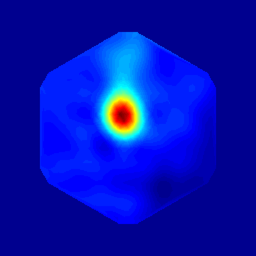ship: (126, 99, 149, 127)
wave: (112, 89, 135, 127)
